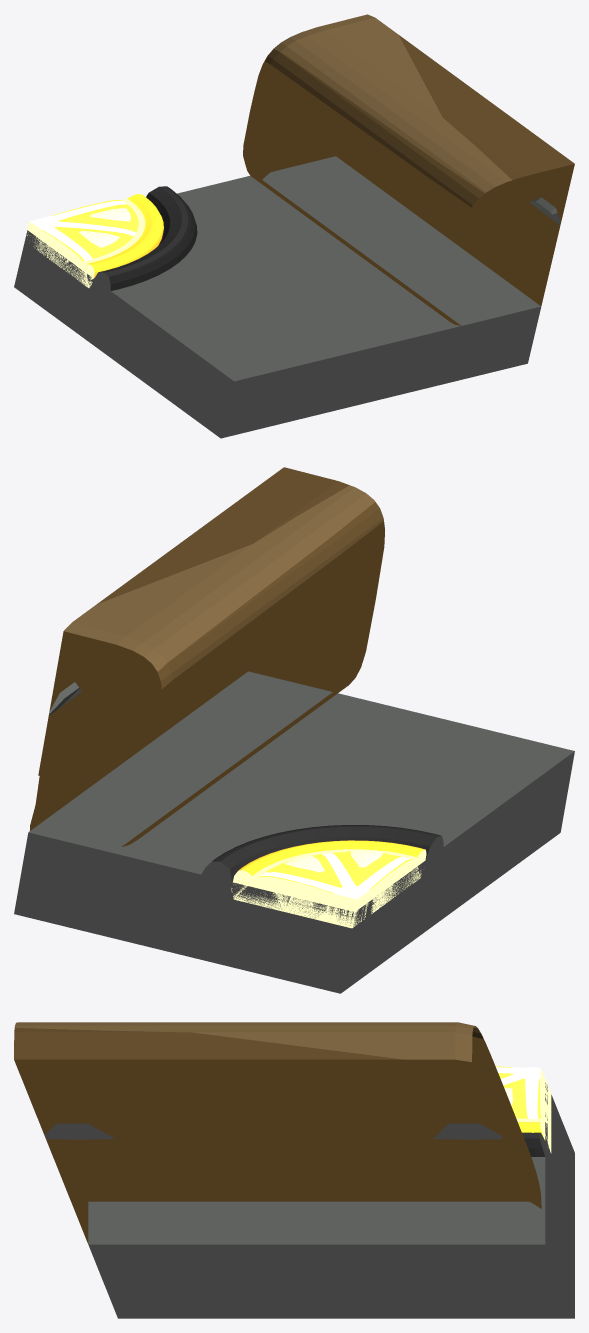
Rendered from pineapple_193.glb.
The picture shows the model from 3 angles, top to bottom: view 1: azimuth 30°, elevation 25°; view 2: azimuth 150°, elevation 25°; view 3: azimuth 270°, elevation 25°; orthographic projection. The views are drawn at different scales.
Parts seen in each view (by area): view 1: pineapple_193; view 2: pineapple_193; view 3: pineapple_193.
Boxes of the visible parts, x1,y1,x2,y2 form: pineapple_193: [14, 14, 574, 438]; pineapple_193: [14, 467, 574, 993]; pineapple_193: [14, 1022, 574, 1318].
Bounding box in the file's own units: 24 × 17.5 × 34.37.
